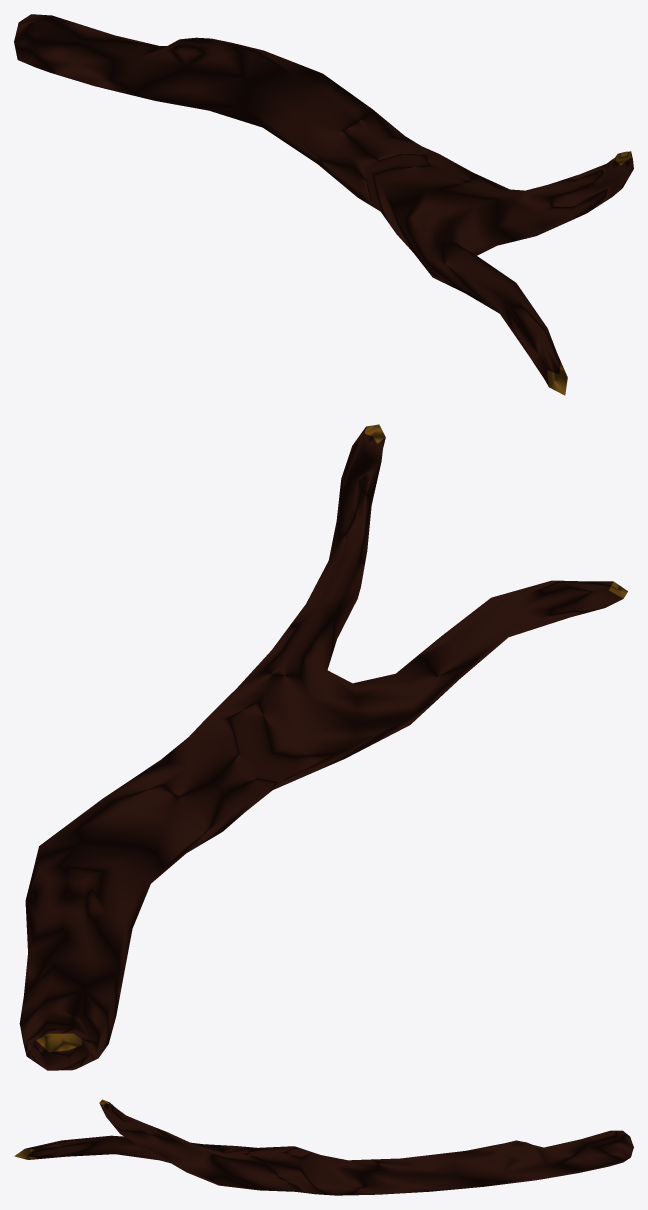
Rendered from Log_2.obj.
3 views of the same model, one above another, from view 1: azimuth 30°, elevation 25°; view 2: azimuth 150°, elevation 25°; view 3: azimuth 270°, elevation 25° (orthographic). The views are drawn at different scales.
Parts seen in each view (by area): view 1: Log_2; view 2: Log_2; view 3: Log_2.
Part boxes in pixels (x1=…): Log_2: x1=14, y1=14, x2=633, y2=395; Log_2: x1=19, y1=424, x2=627, y2=1070; Log_2: x1=14, y1=1099, x2=633, y2=1195.
Bounding box in the file's own units: 89.1 × 75.51 × 384.
